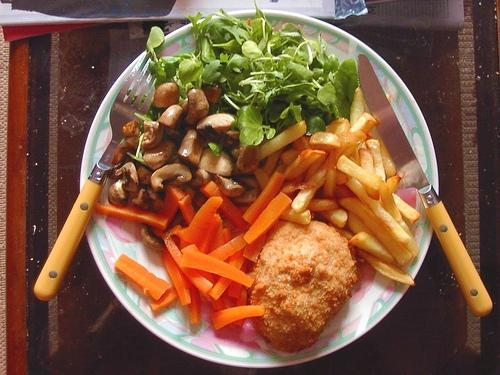carrot: (161, 231, 214, 297), (181, 244, 226, 312), (179, 250, 255, 288), (113, 253, 170, 302), (200, 180, 251, 232), (243, 191, 292, 245), (243, 172, 286, 225), (95, 202, 168, 230), (210, 245, 246, 300), (183, 196, 222, 243), (161, 247, 190, 306), (153, 186, 186, 236), (210, 304, 266, 330), (207, 232, 248, 261), (198, 214, 222, 254), (150, 286, 179, 312), (206, 222, 225, 255), (187, 282, 201, 325), (178, 194, 196, 227), (170, 224, 183, 255), (178, 227, 192, 250)
lettuce: (231, 105, 276, 145), (332, 58, 358, 122), (250, 59, 288, 82), (219, 25, 249, 46), (201, 59, 222, 84), (279, 47, 299, 71), (242, 40, 264, 60), (292, 44, 309, 61), (164, 62, 177, 78), (217, 62, 227, 76)
mushroom: (150, 164, 192, 194), (196, 113, 235, 143), (178, 128, 205, 168), (143, 140, 178, 170), (229, 144, 260, 176), (200, 148, 233, 177), (185, 88, 209, 125), (214, 174, 248, 198), (158, 104, 186, 132), (116, 162, 140, 192), (140, 223, 166, 250), (154, 82, 181, 108), (142, 120, 164, 150), (107, 177, 129, 206), (187, 168, 215, 190), (130, 185, 150, 209), (135, 161, 154, 185), (123, 119, 140, 137), (226, 129, 241, 140)
